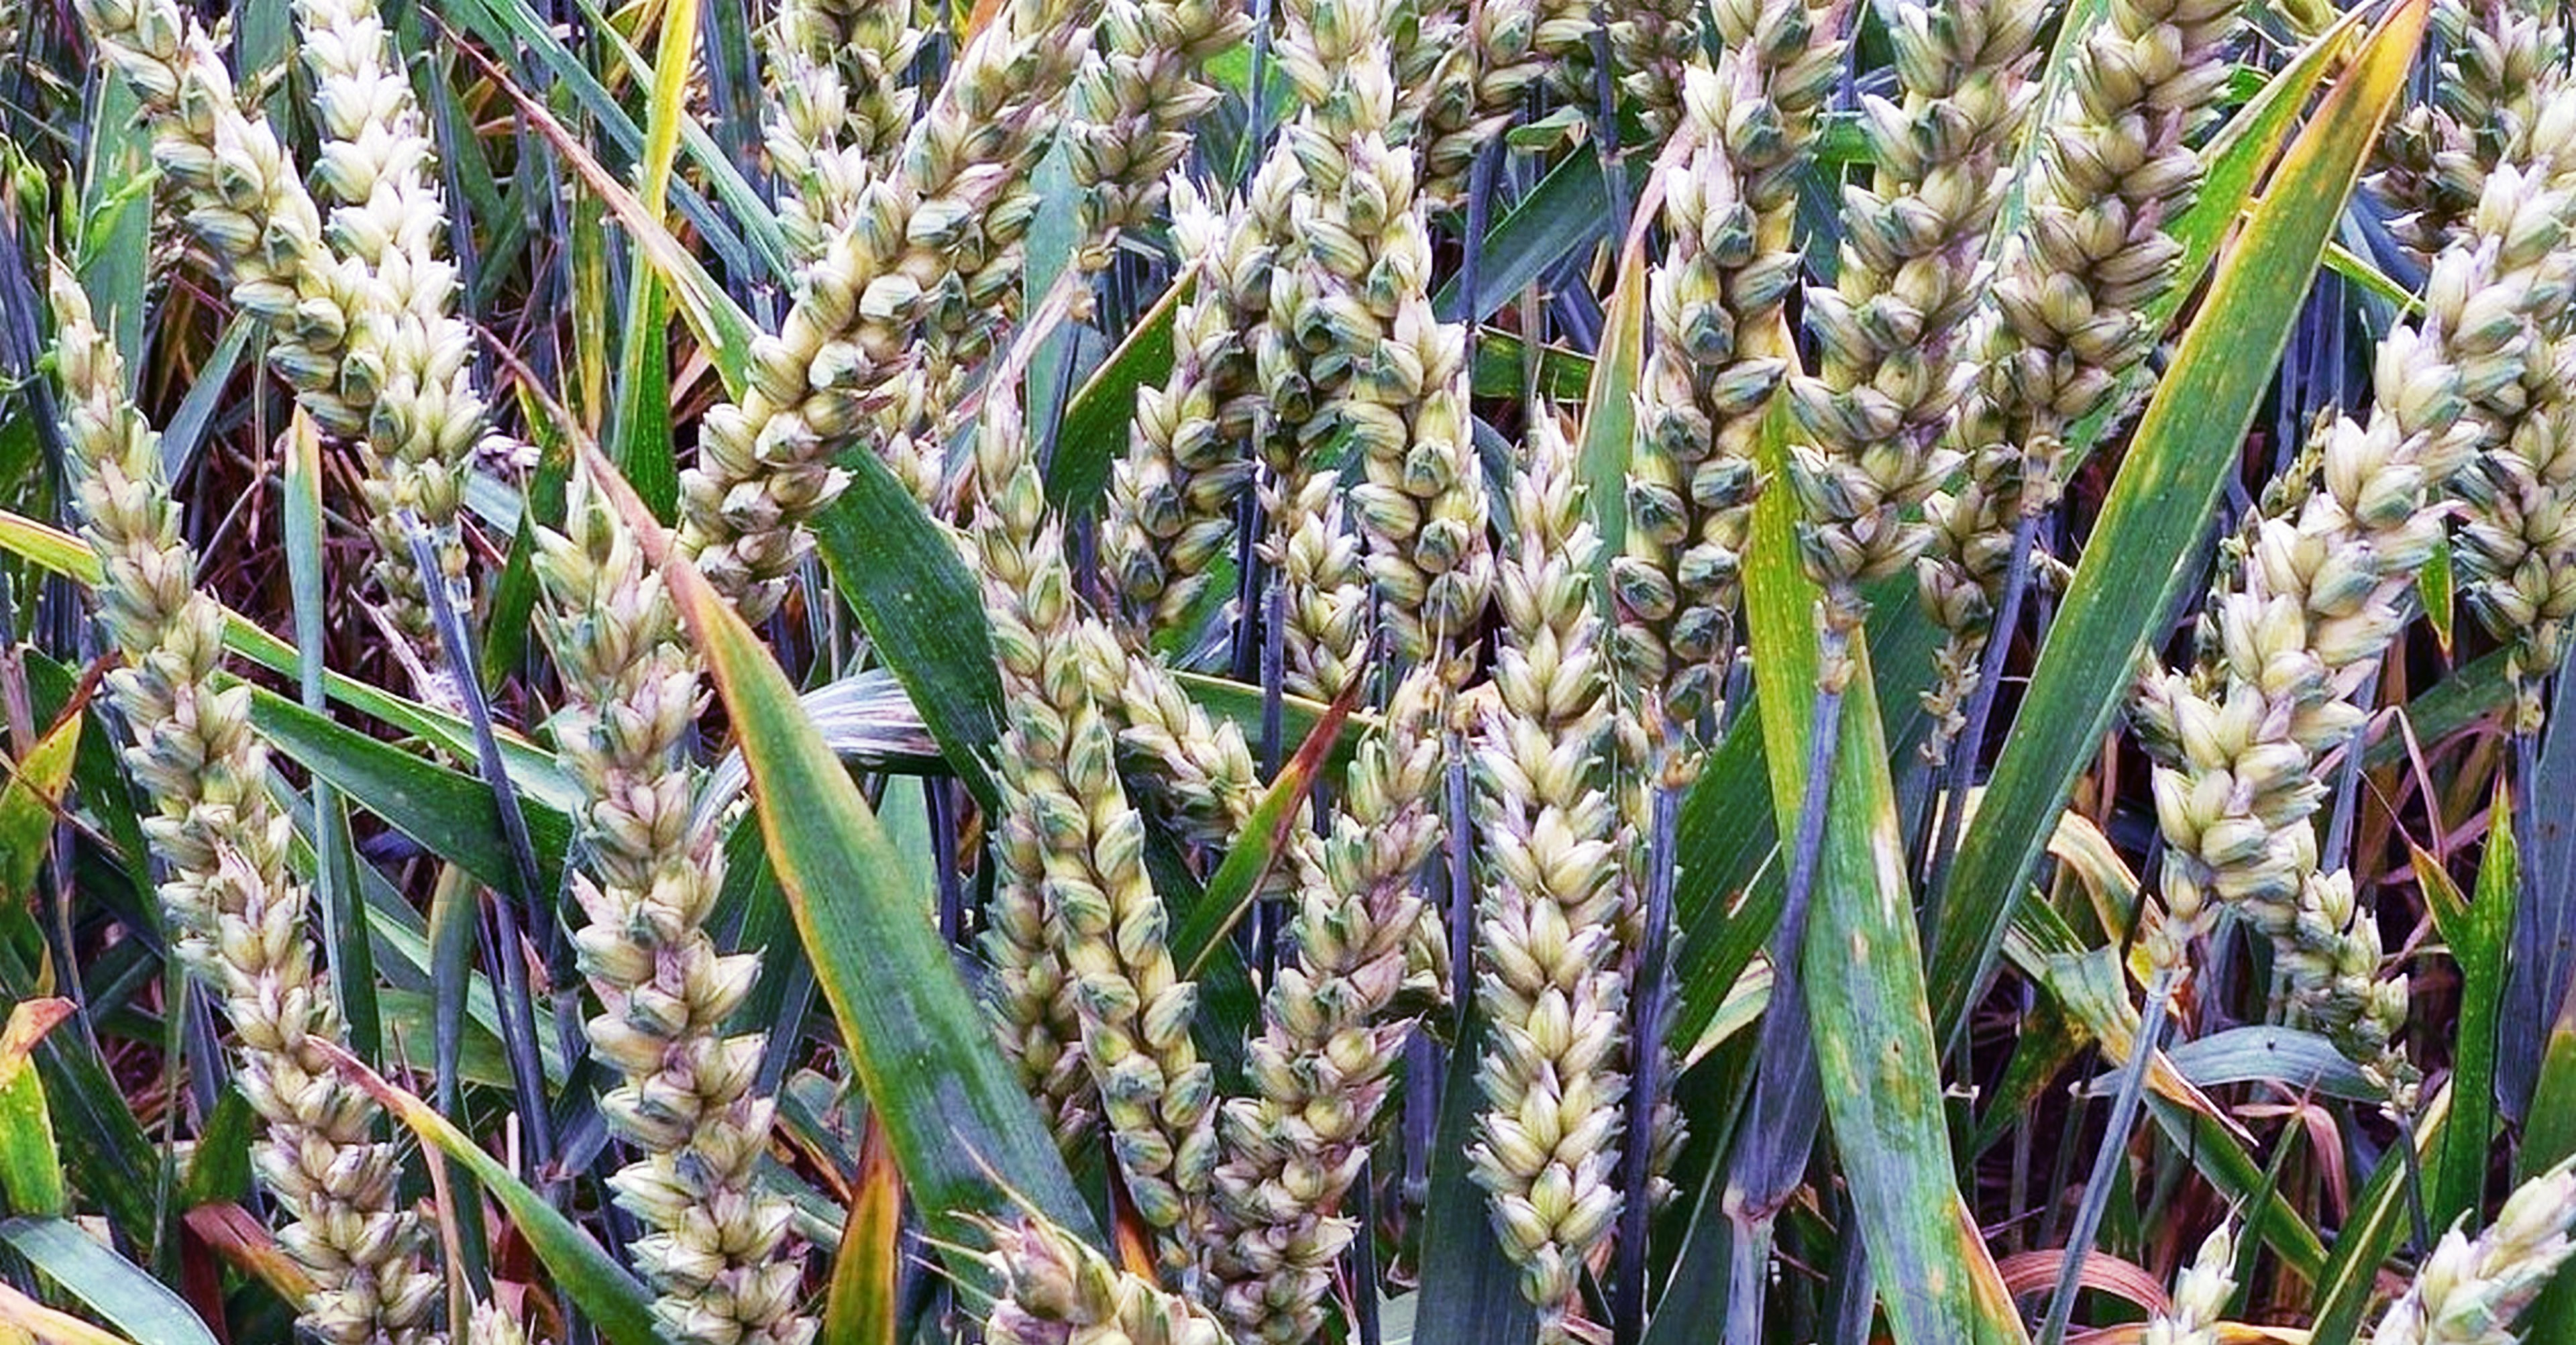Healthy Wheat: (929, 488, 1458, 1330), (526, 491, 876, 1335)
